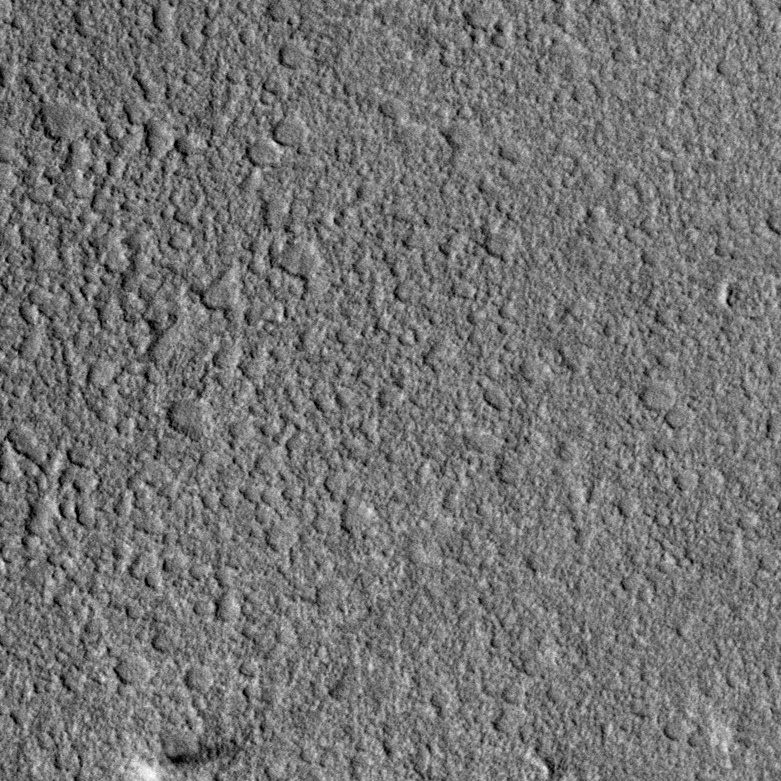dust_devil: (119, 739, 245, 781)
